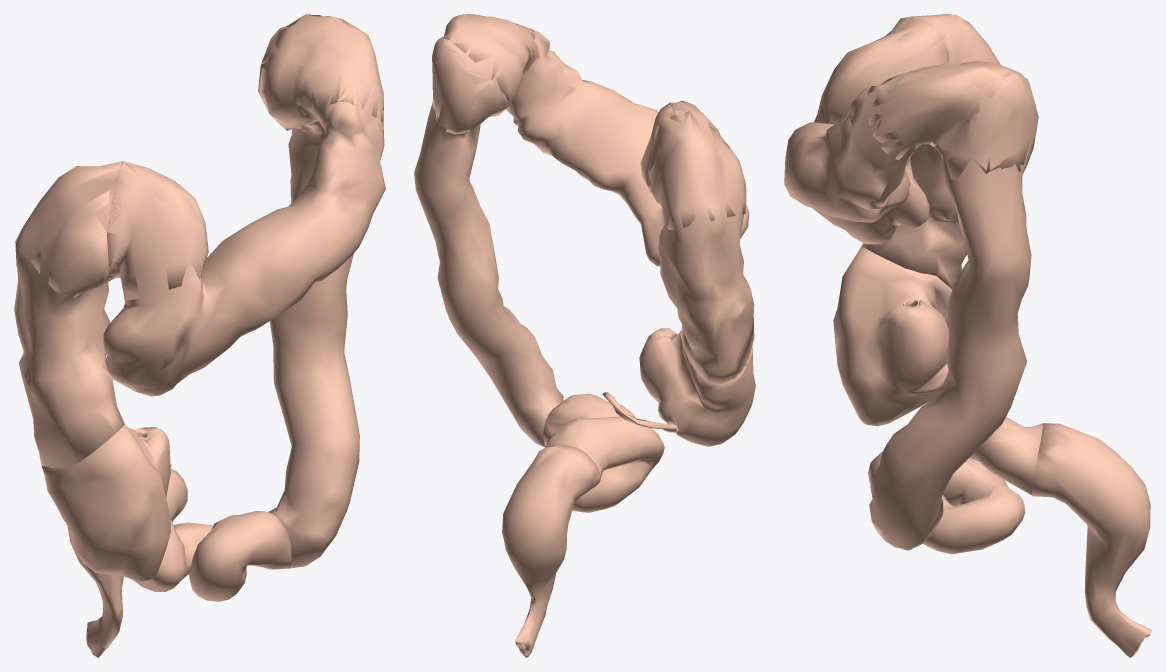
The model's file is sbu_m_intestine_large-40.fbx.
3 renders of one model, left to right at view 1: azimuth 30°, elevation 25°; view 2: azimuth 150°, elevation 25°; view 3: azimuth 270°, elevation 25°, orthographic. The views are drawn at different scales.
Visible parts, largest first — view 1: VH_M_transverse_colon, VH_M_ascending_colon, VH_M_descending_colon, VH_M_caecum, VH_M_hepatic_flexure_of_colon, VH_M_sigmoid_colon, VH_M_splenic_flexure_of_colon, VH_M_rectum; view 2: VH_M_descending_colon, VH_M_ascending_colon, VH_M_transverse_colon, VH_M_rectum, VH_M_caecum, VH_M_sigmoid_colon, VH_M_splenic_flexure_of_colon, VH_M_hepatic_flexure_of_colon, VH_M_vermiform_appendix; view 3: VH_M_descending_colon, VH_M_transverse_colon, VH_M_caecum, VH_M_rectum, VH_M_sigmoid_colon, VH_M_splenic_flexure_of_colon, VH_M_ascending_colon, VH_M_hepatic_flexure_of_colon.
Part boxes in pixels (<box>): VH_M_transverse_colon: <box>103,14,385,396</box>; VH_M_ascending_colon: <box>14,161,124,468</box>; VH_M_descending_colon: <box>259,14,359,568</box>; VH_M_caecum: <box>42,423,170,582</box>; VH_M_hepatic_flexure_of_colon: <box>15,161,206,300</box>; VH_M_sigmoid_colon: <box>133,469,291,601</box>; VH_M_splenic_flexure_of_colon: <box>258,14,383,134</box>; VH_M_rectum: <box>67,525,123,657</box>; VH_M_descending_colon: <box>414,38,563,447</box>; VH_M_ascending_colon: <box>648,111,754,384</box>; VH_M_transverse_colon: <box>443,14,749,266</box>; VH_M_rectum: <box>502,445,600,657</box>; VH_M_caecum: <box>639,328,755,446</box>; VH_M_sigmoid_colon: <box>543,393,664,512</box>; VH_M_splenic_flexure_of_colon: <box>432,14,534,134</box>; VH_M_hepatic_flexure_of_colon: <box>640,101,745,229</box>; VH_M_vermiform_appendix: <box>602,392,677,432</box>; VH_M_descending_colon: <box>869,70,1038,550</box>; VH_M_transverse_colon: <box>784,16,1012,244</box>; VH_M_caecum: <box>833,247,951,426</box>; VH_M_rectum: <box>1032,423,1151,657</box>; VH_M_sigmoid_colon: <box>868,417,1042,554</box>; VH_M_splenic_flexure_of_colon: <box>867,61,1038,179</box>; VH_M_ascending_colon: <box>861,14,995,289</box>; VH_M_hepatic_flexure_of_colon: <box>818,15,1000,123</box>.
Size of the model in its own units: 25.92 by 45.06 by 22.47.
